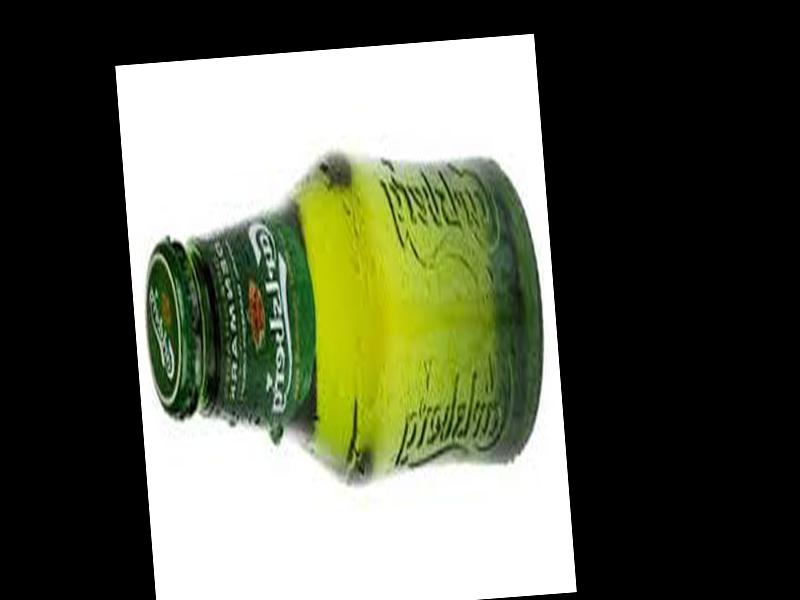Beer: (135, 146, 555, 497)
